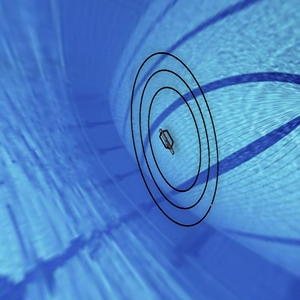circle: (107, 44, 241, 242)
submarine: (155, 120, 180, 159)
